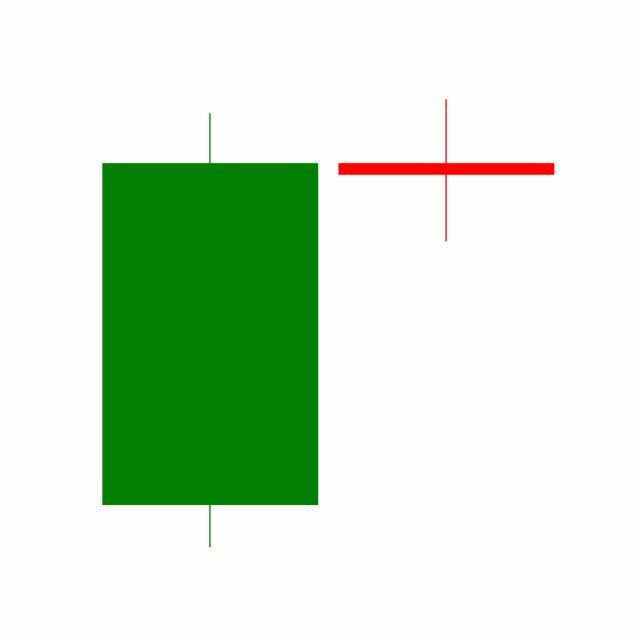Spinning Top: (328, 98, 566, 244)
